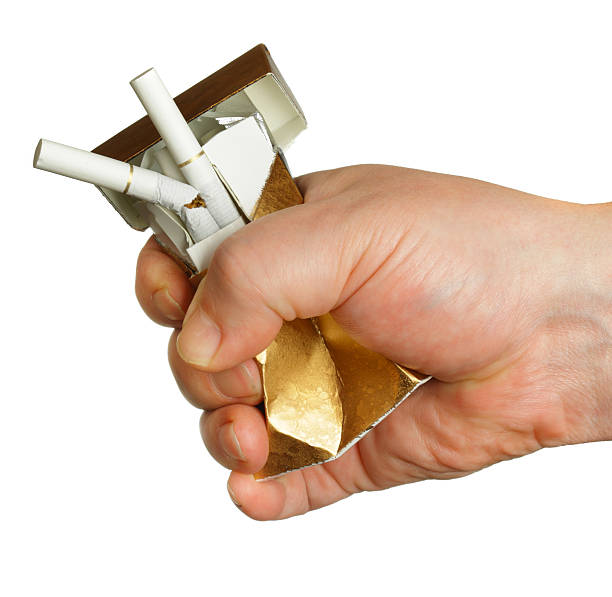cigarette: (85, 39, 436, 485), (31, 136, 220, 243), (126, 65, 239, 228)
